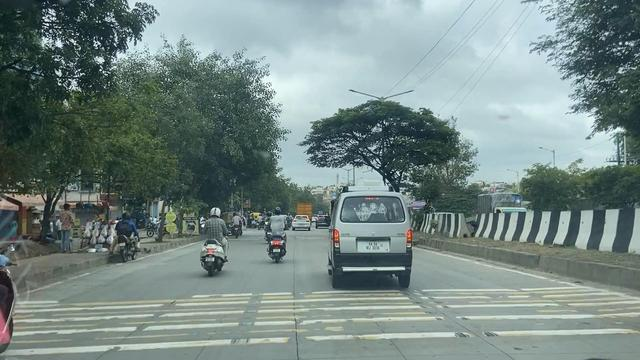LMV: (331, 187, 418, 288), (197, 205, 232, 276), (258, 209, 290, 264)
SpeedBump: (19, 292, 640, 346)
